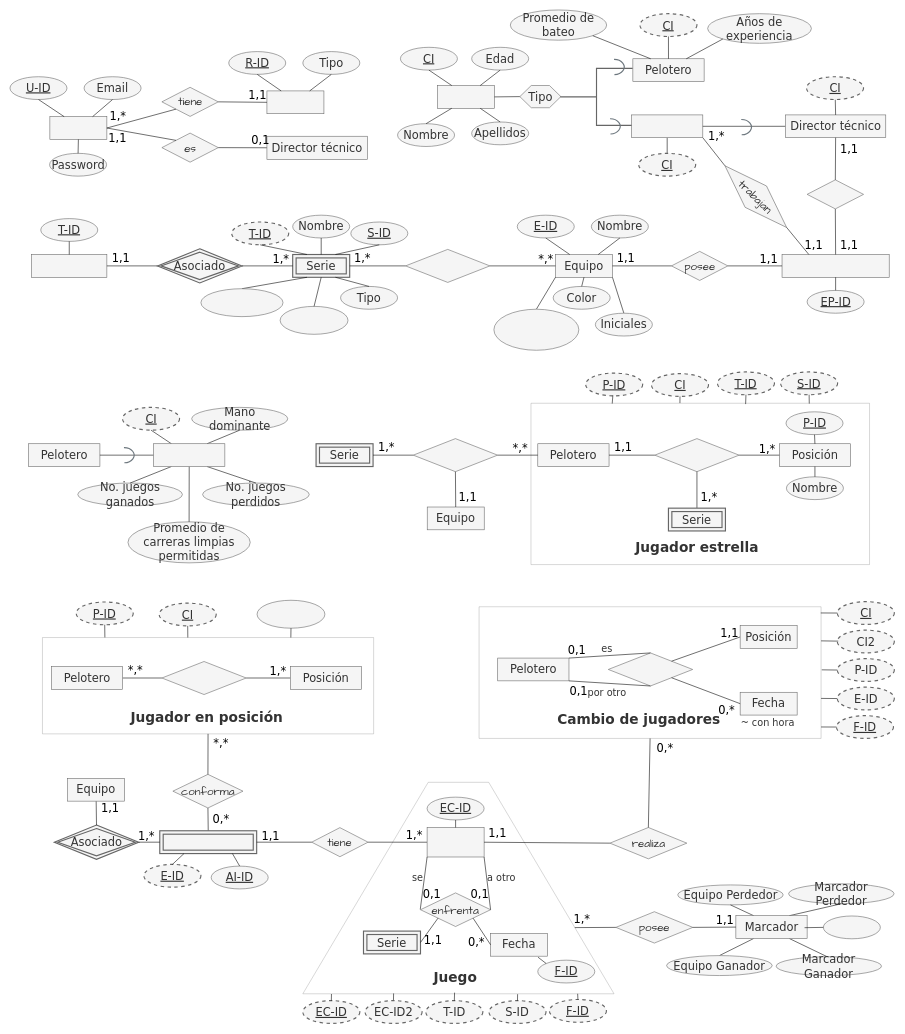
This 905x1034 diagram has some shape labels left out. Here are the shapes that lost their labels. From the top down, the centre of each, then its label:
At point 295,102: "Rol".
At point 465,96: "Persona".
At point 78,127: "Usuario".
At point 667,126: "Trabajador".
At point 835,194: "dirigido".
At point 69,265: "Temporada".
At point 447,265: "compiten".
At point 835,265: "Equipo de dirección".
At point 241,302: "Fecha de inicio".
At point 314,320: "Fecha de fin".
At point 536,329: "Entidad representante".
At point 189,455: "Lanzador".
At point 455,455: "participa".
At point 696,455: "seleccionado".
At point 290,614: "Efectividad".
At point 203,678: "juega".
At point 650,669: "cambiado".
At point 208,842: "Alineación inicial".
At point 455,842: "Equipo en el campo".
At point 851,927: "M-ID".
